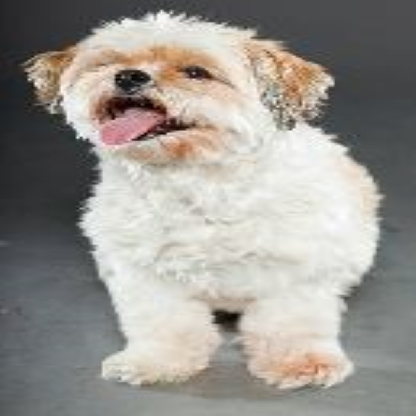maltese: (18, 8, 384, 384)
